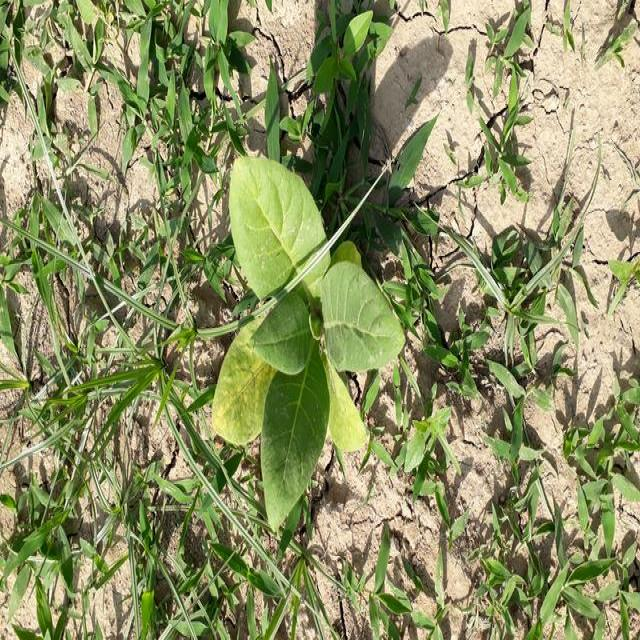crop: (215, 142, 396, 527)
